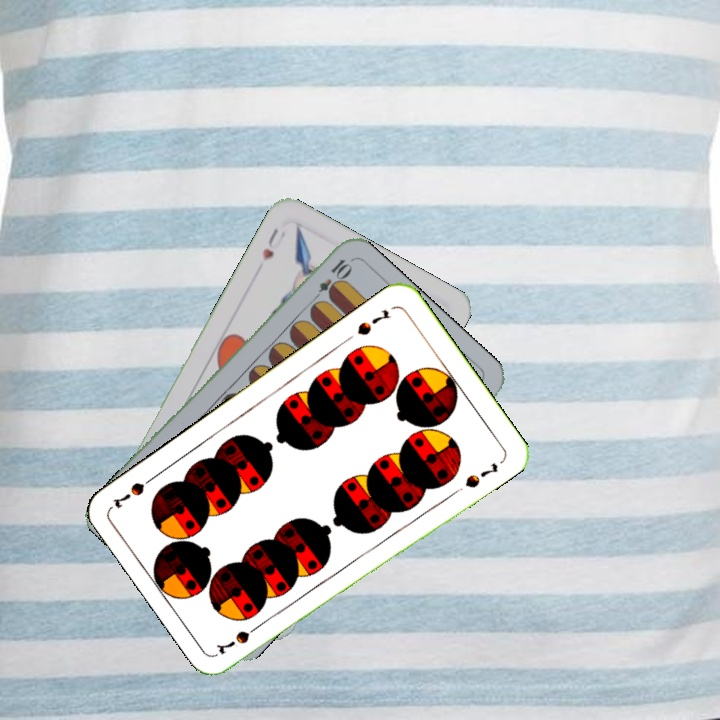E10: (307, 255, 354, 306)
HU: (258, 224, 283, 264)
S7: (214, 618, 266, 657), (353, 304, 393, 338)
